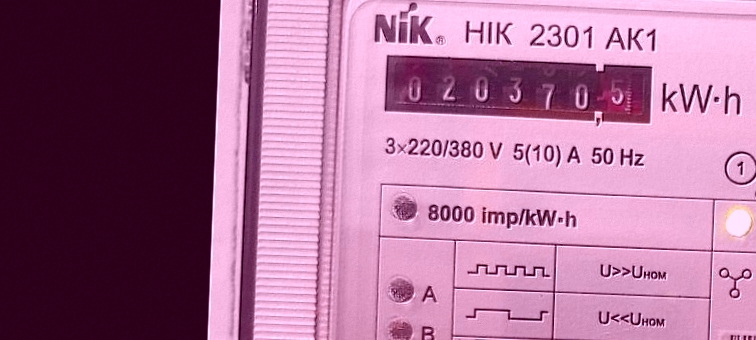0: (572, 81, 591, 112), (405, 73, 423, 102), (473, 73, 489, 102)
2: (439, 72, 458, 104)
3: (506, 73, 523, 104)
5: (608, 75, 627, 107)
7: (539, 81, 555, 111)
screen: (376, 47, 661, 133)
